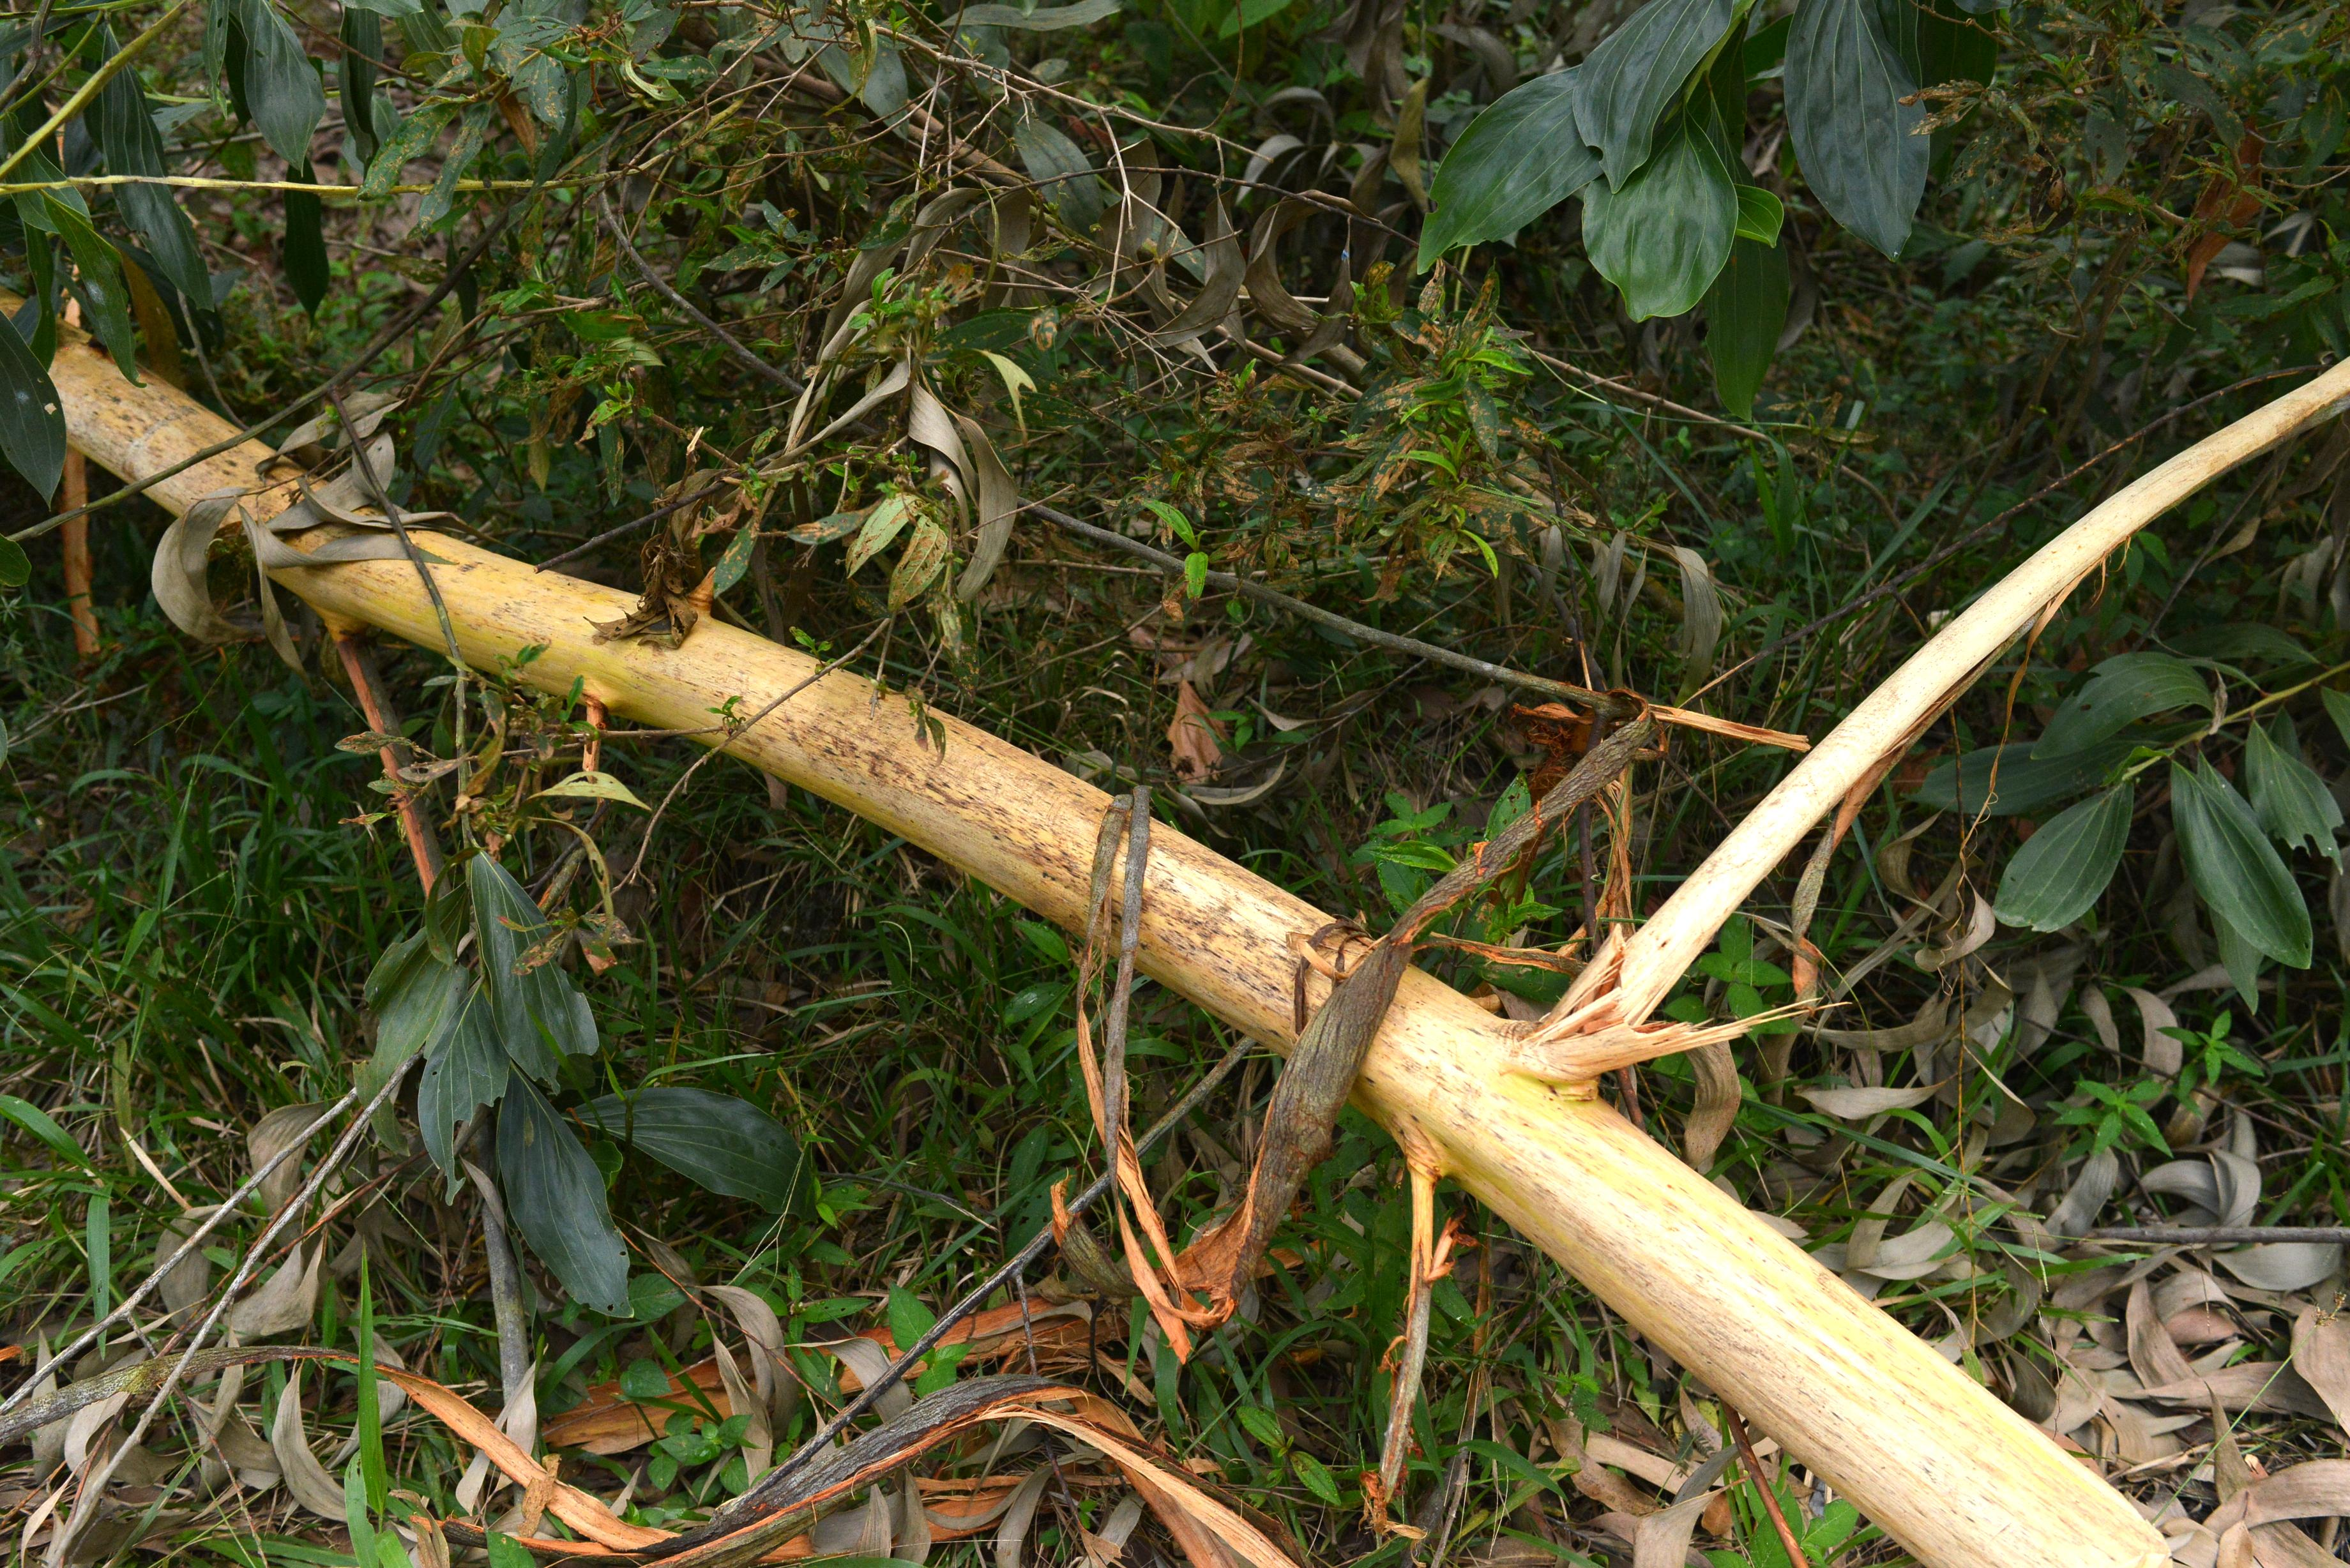Mammals Attack: (58, 313, 2163, 1561)
